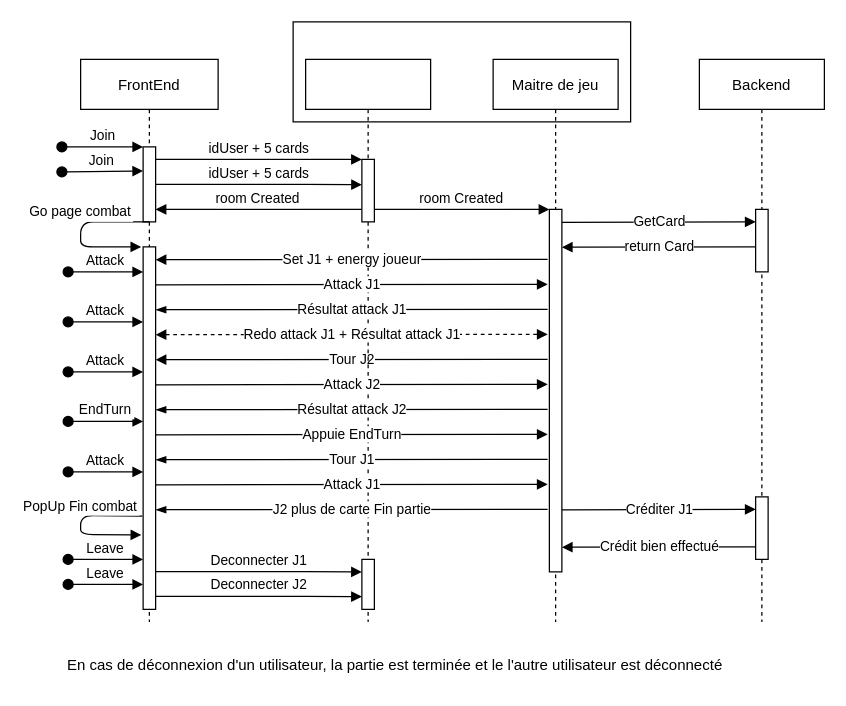
Some shapes in this 846 by 706 pixel diagram are drawn without their labels. Here are the shapes that lost their labels. From the top down, the centre of each, then its label:
At pixel 461 71: "NodeJS".
At pixel 367 340: "Gestion room".
